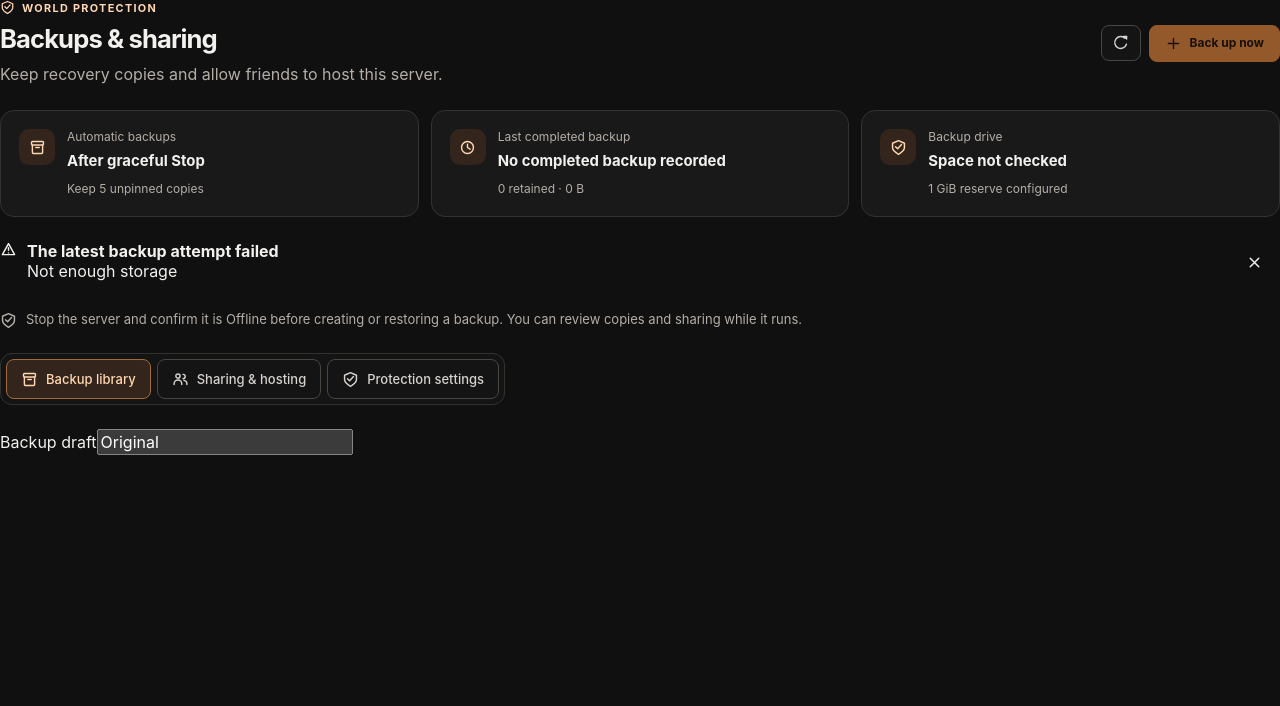
it: Host world protection workspace › keeps unknown occupancy blocked and records a failed backup without suggesting success
expect the button "Back up now" is disabled: met, box [1150, 24, 1279, 62]
expect the message shows "Not enough storage": met, box [27, 261, 177, 281]
What coordinates should you click on to do the following:
click the button "Protection settings"
I would click on:
 (413, 379)
Its box is [327, 359, 499, 399].
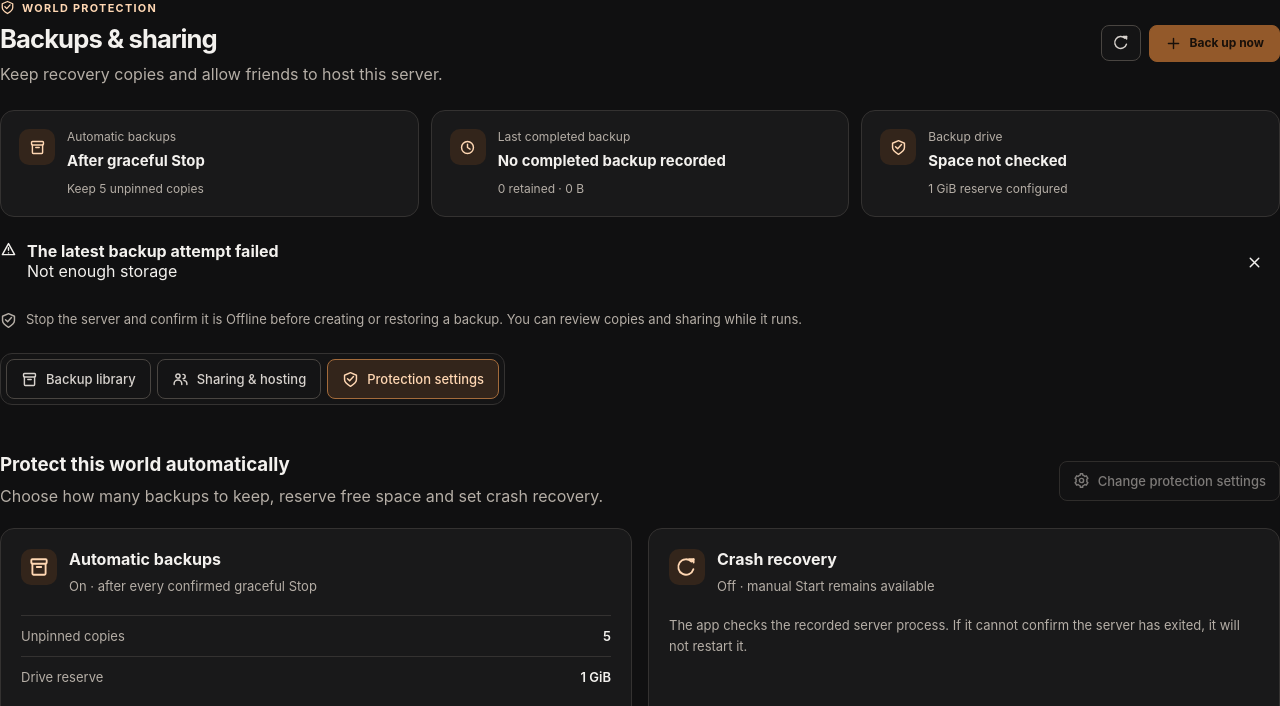
expect the button "Change protection settings" is disabled: met, box [1059, 461, 1279, 501]
